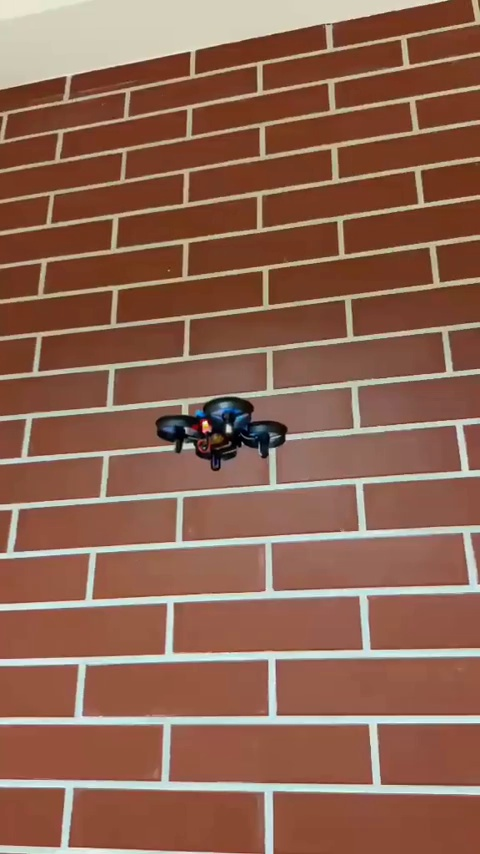drone: (157, 395, 286, 468)
